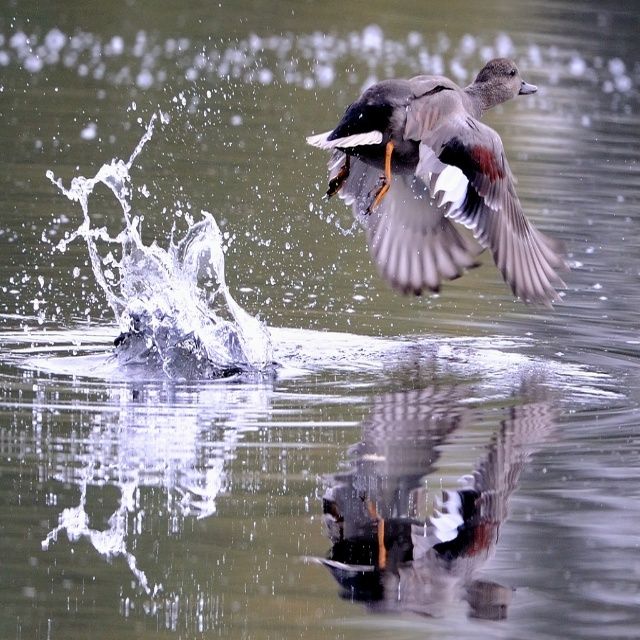Duck: (306, 48, 558, 297)
